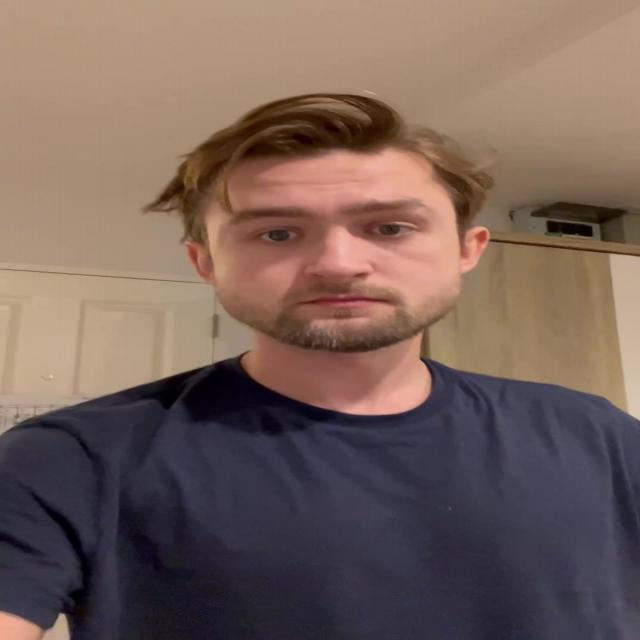earlobe: (459, 226, 492, 275), (183, 240, 218, 285)
